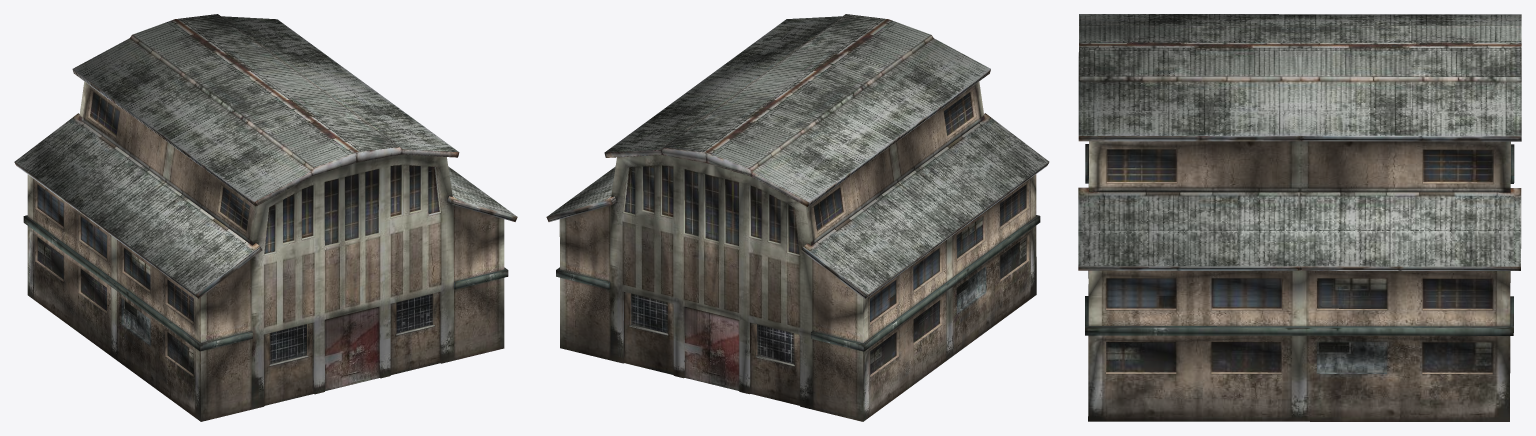
File: a09_warehouse_b.glb
3 views of the same model, side by side, from view 1: azimuth 30°, elevation 25°; view 2: azimuth 150°, elevation 25°; view 3: azimuth 270°, elevation 25° (orthographic). The views are drawn at different scales.
Visible parts, largest first — view 1: body; view 2: body; view 3: body.
Boxes of the visible parts, x1,y1,x2,y2 form: body: (14, 14, 517, 421); body: (546, 14, 1049, 421); body: (1078, 14, 1521, 421).
Bounding box in the file's own units: 1 × 0.7024 × 0.9827.
Materials: 1 (1 with a texture image).
